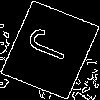J: (25, 25, 81, 67)
